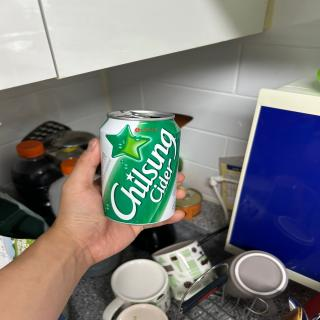chilsung: (97, 107, 184, 229)
